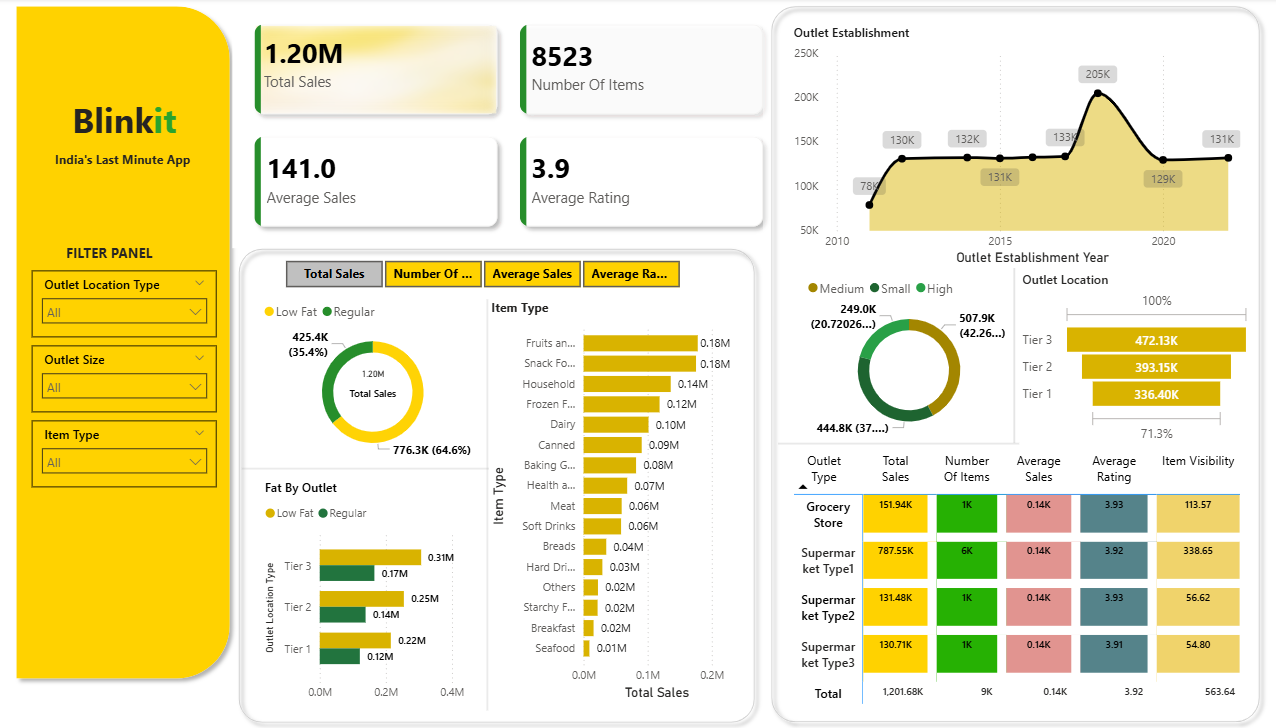

Layout of this report page (visuals, bound fields, positions):
{"tool":"powerbi","page":{"name":"Page 1","canvas":[1400,800],"ordinal":0},"visuals":[{"type":"shape","box":[11,0,250.9,751.1],"z":0},{"type":"textbox","box":[55.2,102.6,164.1,60],"z":1000},{"type":"textbox","box":[56.8,162.5,181.5,48.9],"z":2000},{"type":"cardVisual","fields":{"Data":["BlinkIT Grocery Data.Total Sales","BlinkIT Grocery Data.Number Of Items","BlinkIT Grocery Data.Average Sales","BlinkIT Grocery Data.Average Rating"]},"box":[250.9,0,612.3,279.3],"z":3000},{"type":"shape","box":[254.1,265.1,580.7,534.9],"z":4000},{"type":"donutChart","fields":{"Category":["BlinkIT Grocery Data.Item Fat Content"],"Y":["BlinkIT Grocery Data.Total Sales"]},"box":[284.9,321.7,248.1,186.8],"z":5000},{"type":"slicer","fields":{"Values":["Metrics.Metrics"]},"box":[287.2,279.3,480,42.6],"z":6000},{"type":"card","fields":{"Values":["BlinkIT Grocery Data.Total Sales"]},"box":[362.6,387.2,92.7,64.1],"z":7000},{"type":"clusteredBarChart","title":"Fat By Outlet","fields":{"Category":["BlinkIT Grocery Data.Outlet Location Type"],"Series":["BlinkIT Grocery Data.Item Fat Content"],"Y":["BlinkIT Grocery Data.Total Sales"]},"box":[285.6,525.5,230.4,250.9],"z":8000},{"type":"barChart","title":"Item Type","fields":{"Category":["BlinkIT Grocery Data.Item Type"],"Y":["BlinkIT Grocery Data.Total Sales"]},"box":[533.1,328.6,284.9,441.7],"z":9000},{"type":"shape","box":[834.4,0,550.8,798.9],"z":10000},{"type":"lineChart","title":" Outlet Establishment","fields":{"Category":["BlinkIT Grocery Data.Outlet Establishment Year"],"Y":["BlinkIT Grocery Data.Total Sales"]},"box":[863.2,28.4,497.1,268.3],"z":11000},{"type":"donutChart","fields":{"Category":["BlinkIT Grocery Data.Outlet Size"],"Y":["BlinkIT Grocery Data.Total Sales"]},"box":[878,295.8,231.8,190.9],"z":12000},{"type":"funnel","title":" Outlet Location","fields":{"Category":["BlinkIT Grocery Data.Outlet Location Type"],"Y":["Sum(BlinkIT Grocery Data.Sales)"]},"box":[1112.5,296.7,258.8,192.5],"z":13000},{"type":"pivotTable","fields":{"Rows":["BlinkIT Grocery Data.Outlet Type"],"Values":["BlinkIT Grocery Data.Total Sales","BlinkIT Grocery Data.Number Of Items","BlinkIT Grocery Data.Average Sales","BlinkIT Grocery Data.Average Rating","Sum(BlinkIT Grocery Data.Item Visibility)"]},"box":[863,486.7,500.3,298.6],"z":14000},{"type":"shape","box":[265.9,493.5,269.9,39.5],"z":15000},{"type":"shape","box":[850.7,466.3,263.1,39.5],"z":16000},{"type":"shape","box":[497.6,328.6,72.3,448.5],"z":17000},{"type":"shape","box":[1073.1,295.1,71,190.9],"z":18000},{"type":"slicer","fields":{"Values":["BlinkIT Grocery Data.Outlet Location Type"]},"box":[36.3,296.7,202,72.6],"z":19000},{"type":"slicer","fields":{"Values":["BlinkIT Grocery Data.Outlet Size"]},"box":[36.3,378.7,202,72.6],"z":20000},{"type":"slicer","fields":{"Values":["BlinkIT Grocery Data.Item Type"]},"box":[36.3,460.8,202,72.6],"z":21000},{"type":"textbox","box":[69.4,263.5,137.3,31.6],"z":22000}]}

Visuals, with their boxes in screenshot pixels (x1, y1, x2, y2), scaled from the page's 1400x800 canvas onto the 1276x728 screenshot:
shape: (10,0,239,684)
textbox: (50,93,200,148)
textbox: (52,148,217,192)
cardVisual - BlinkIT Grocery Data.Total Sales x BlinkIT Grocery Data.Number Of Items: (229,0,787,254)
shape: (232,241,761,727)
donutChart - BlinkIT Grocery Data.Item Fat Content x BlinkIT Grocery Data.Total Sales: (260,293,486,463)
slicer - Metrics.Metrics: (262,254,699,293)
card - BlinkIT Grocery Data.Total Sales: (330,352,415,411)
"Fat By Outlet" clusteredBarChart: (260,478,470,707)
"Item Type" barChart: (486,299,746,701)
shape: (760,0,1263,727)
" Outlet Establishment" lineChart: (787,26,1240,270)
donutChart - BlinkIT Grocery Data.Outlet Size x BlinkIT Grocery Data.Total Sales: (800,269,1012,443)
" Outlet Location" funnel: (1014,270,1250,445)
pivotTable - BlinkIT Grocery Data.Outlet Type x BlinkIT Grocery Data.Total Sales: (787,443,1243,715)
shape: (242,449,488,485)
shape: (775,424,1015,460)
shape: (454,299,519,707)
shape: (978,269,1043,442)
slicer - BlinkIT Grocery Data.Outlet Location Type: (33,270,217,336)
slicer - BlinkIT Grocery Data.Outlet Size: (33,345,217,411)
slicer - BlinkIT Grocery Data.Item Type: (33,419,217,485)
textbox: (63,240,188,269)
